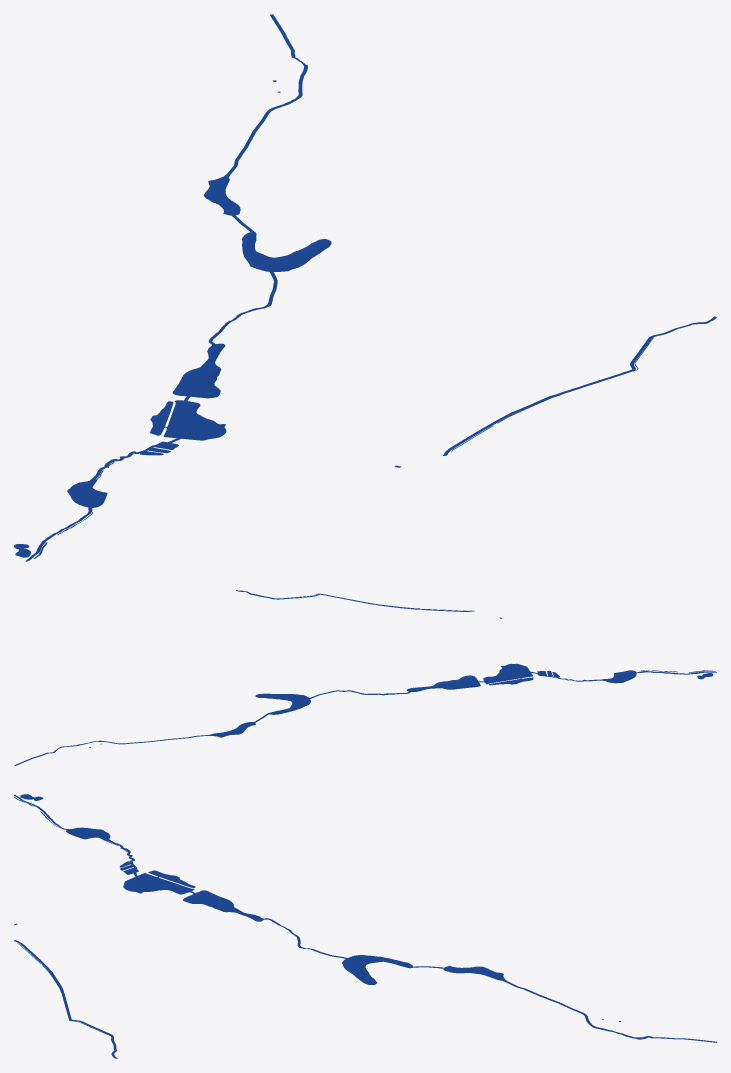
The model's file is 250416_01_Water.glb.
3 views of the same model, one above another, from view 1: azimuth 30°, elevation 25°; view 2: azimuth 150°, elevation 25°; view 3: azimuth 270°, elevation 25° (orthographic). The views are drawn at different scales.
Parts seen in each view (by area): view 1: 250416_01_Water; view 2: 250416_01_Water; view 3: 250416_01_Water.
Boxes of the visible parts, x1,y1,x2,y2 form: 250416_01_Water: (14, 14, 716, 561); 250416_01_Water: (14, 590, 716, 765); 250416_01_Water: (14, 794, 716, 1058).
Bounding box in the file's own units: 1816 × 34.63 × 1999.
